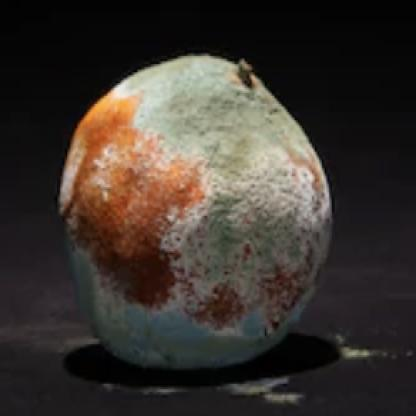rotten: (59, 53, 334, 369)
